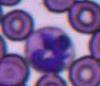N: (25, 26, 74, 72)
